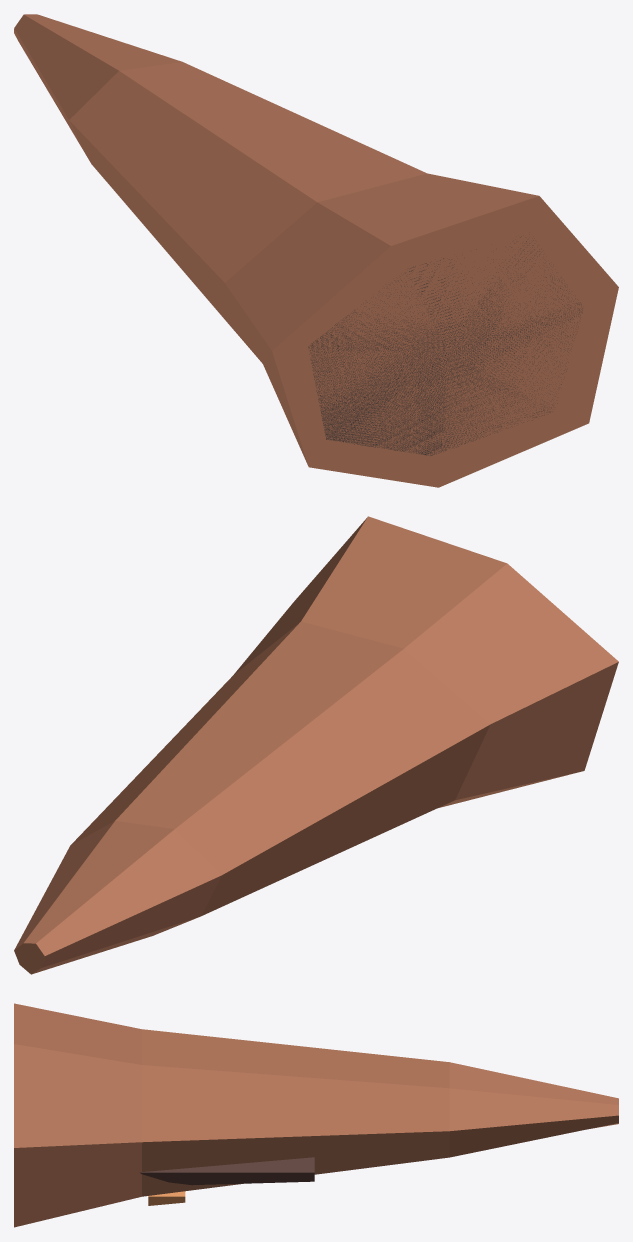
Rendered from CrashBasinSpireB.fbx.
The picture shows the model from 3 angles, top to bottom: view 1: azimuth 30°, elevation 25°; view 2: azimuth 150°, elevation 25°; view 3: azimuth 270°, elevation 25°; orthographic projection. The views are drawn at different scales.
Parts seen in each view (by area): view 1: SpireBody, SpireFoot; view 2: SpireBody; view 3: SpireBody, SpireShadowFin, SpireSignal.
Part boxes in pixels (box(x1,y1,x2,y2)): SpireBody: box(14, 14, 618, 487); SpireFoot: box(308, 236, 582, 455); SpireBody: box(14, 516, 618, 974); SpireBody: box(14, 1003, 618, 1227); SpireShadowFin: box(140, 1157, 314, 1185); SpireSignal: box(148, 1191, 185, 1205).
Bounding box in the file's own units: 218 × 160 × 473.
